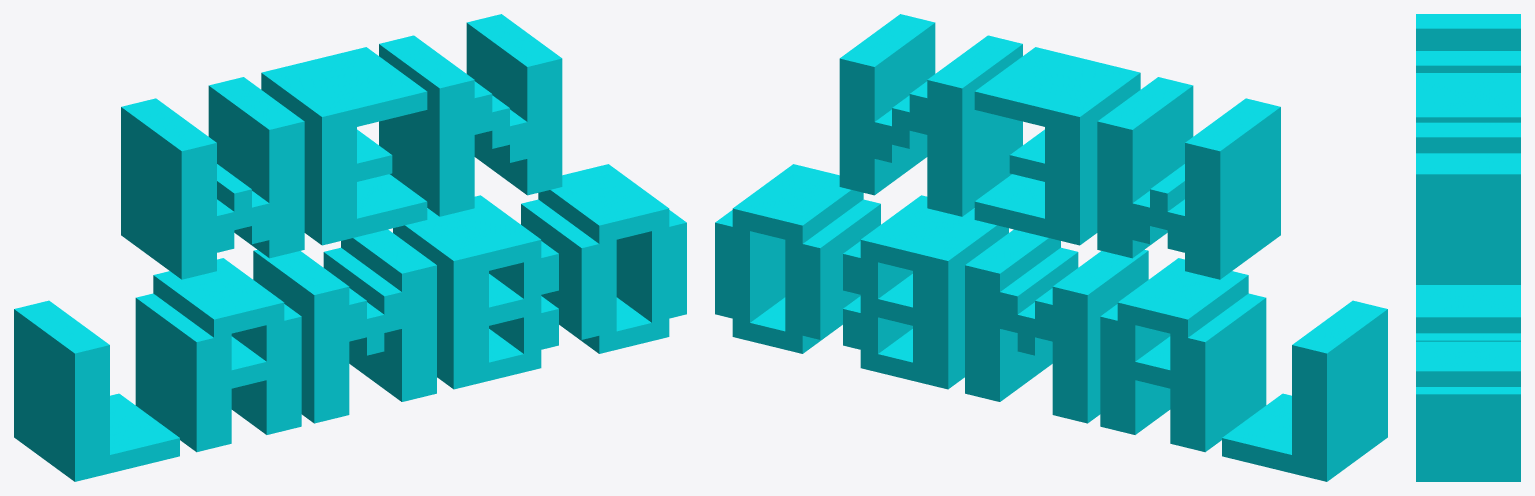
File: WEN-LAMBO.gltf
3 renders of one model, left to right at view 1: azimuth 30°, elevation 25°; view 2: azimuth 150°, elevation 25°; view 3: azimuth 270°, elevation 25°, orthographic. The views are drawn at different scales.
Bounding box in the file's own units: 0.0581 × 0.0276 × 0.01.
